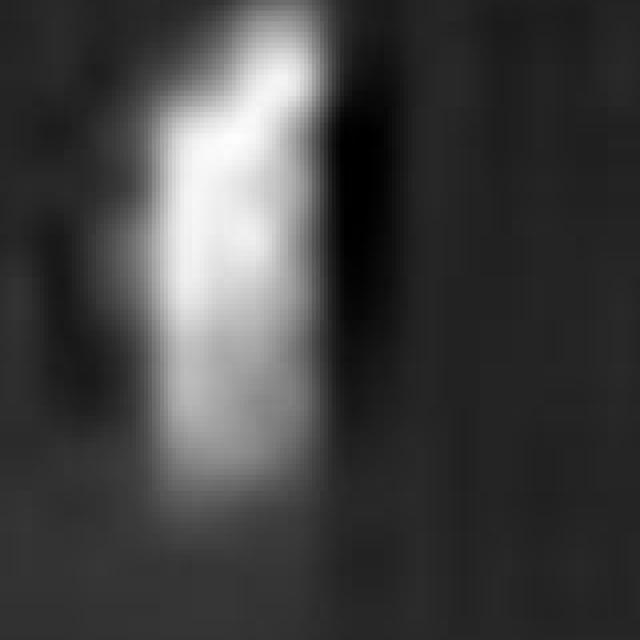person: (125, 1, 357, 534)
